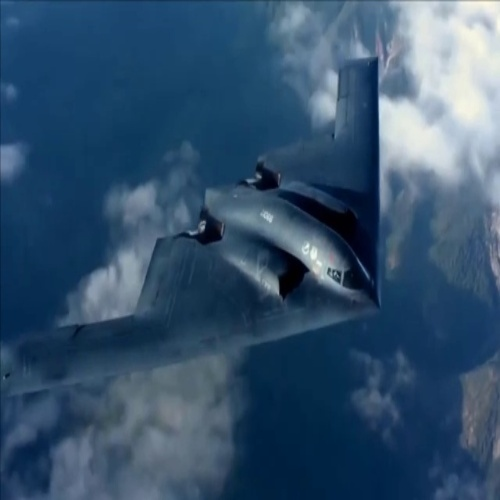uav932: (4, 51, 383, 394)
